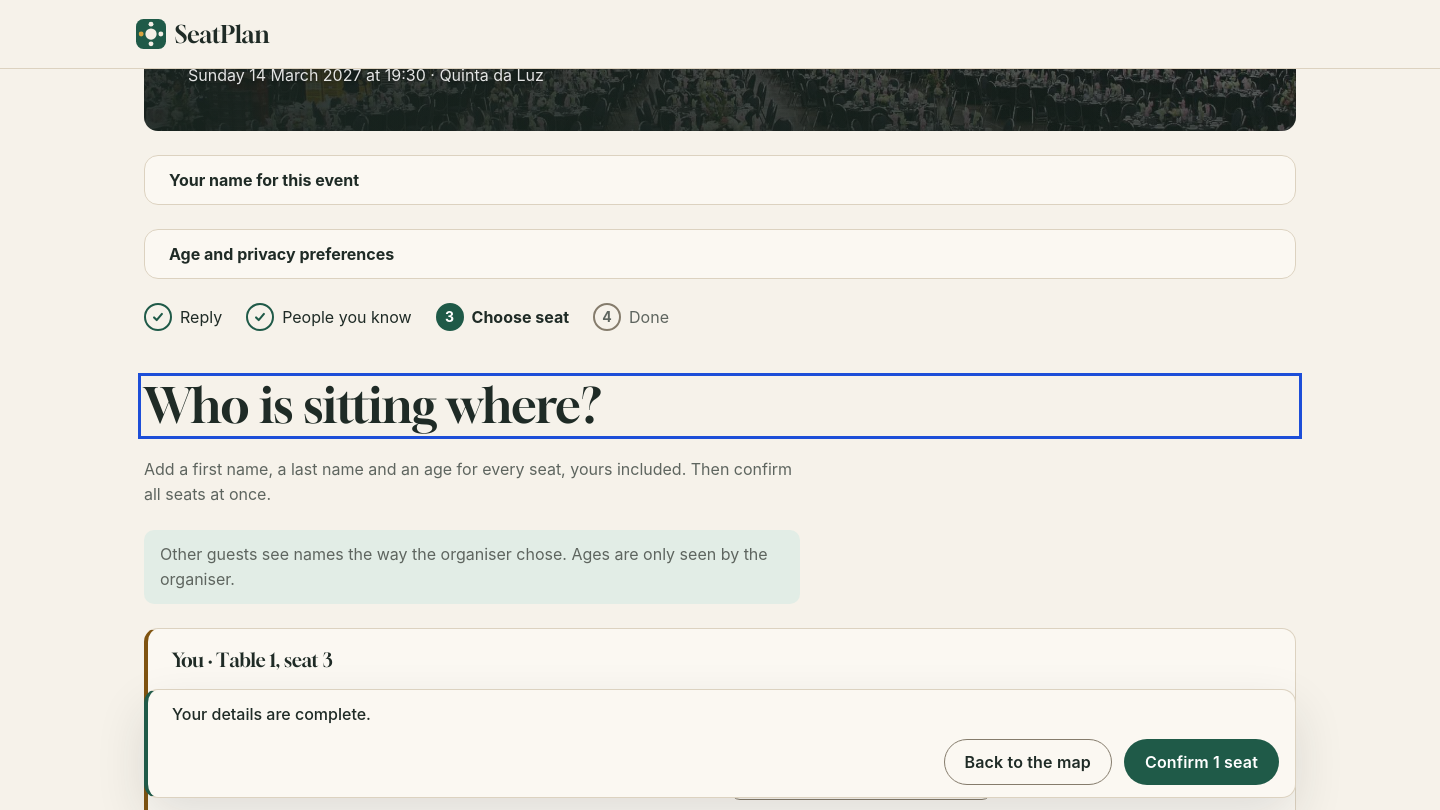
Test: Attendee page › goes from the invitation to a confirmed seat
This screenshot has width=1440, height=810.
Earlier steps of the test are not shown.
Later steps or results of the test are not shown.
(page scrolled)
Click the button "Confirm 1 seat" at (1202, 762), box [1124,739,1279,785]
(page scrolled)
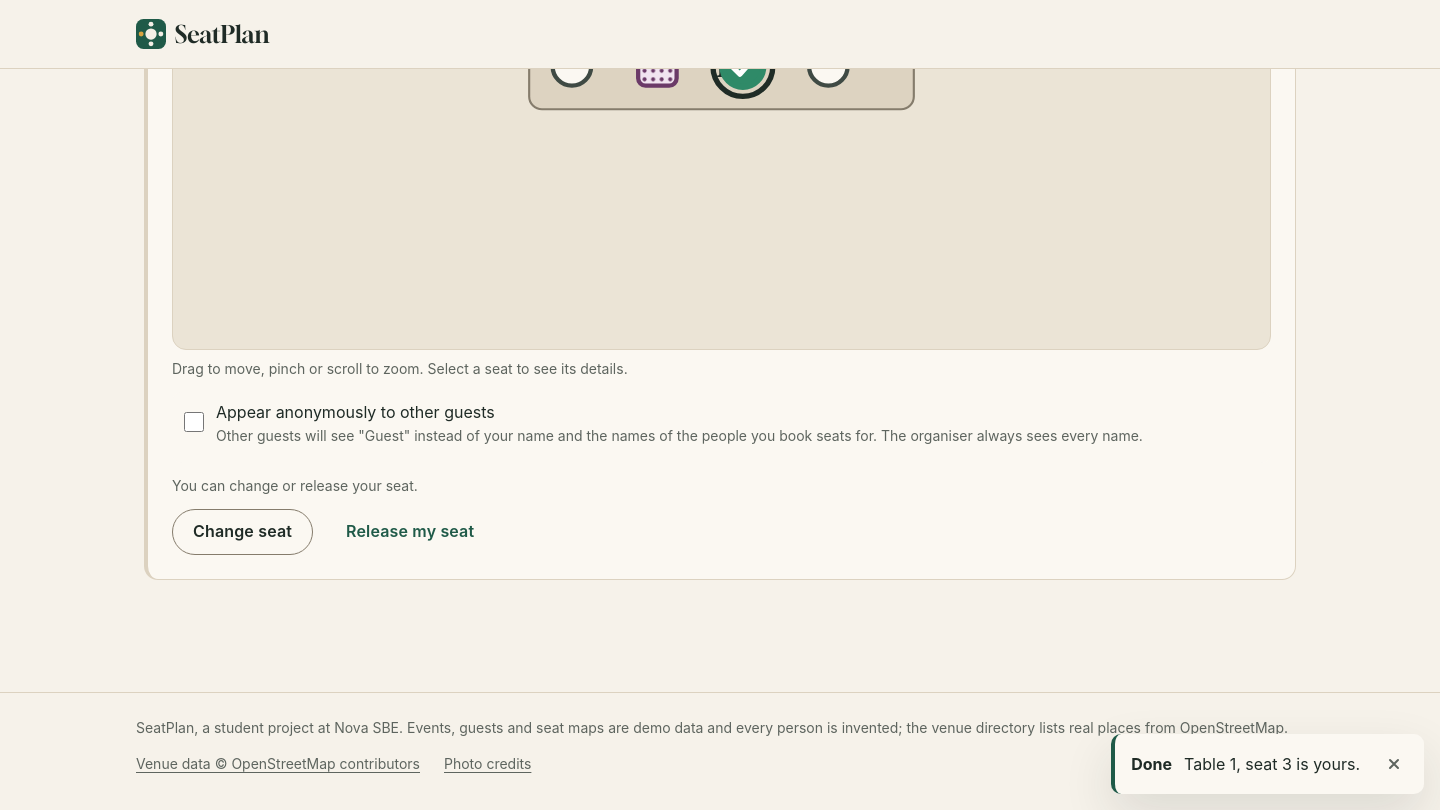
Result: the button "Change seat" is shown at [172,509,313,555]
Result: the button "Release my seat" is shown at [325,509,495,555]
